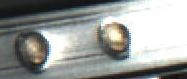joints: (12, 28, 54, 72), (94, 17, 136, 60)
